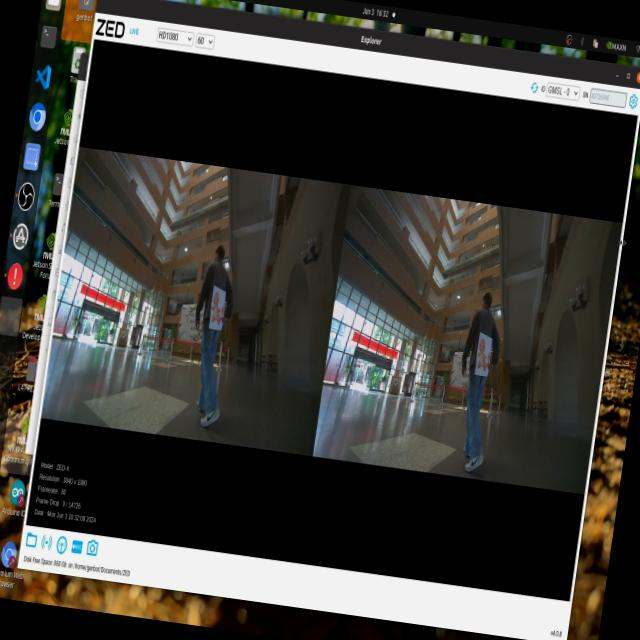red: (470, 331, 498, 375), (212, 283, 230, 328)
